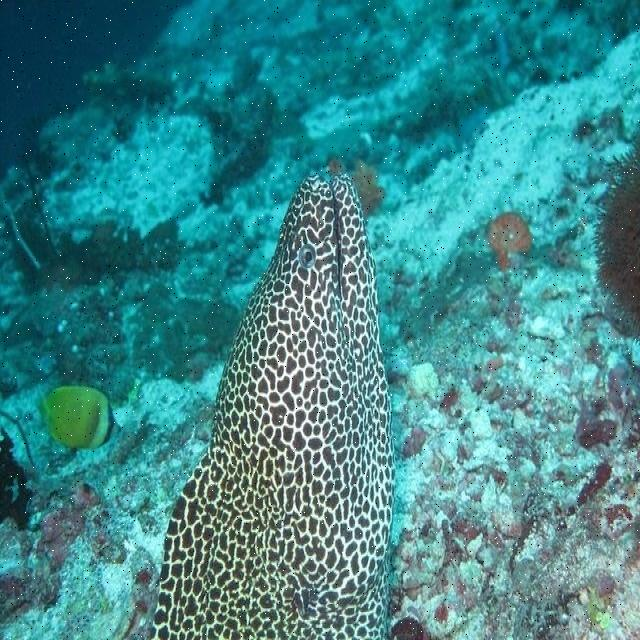fish: (149, 172, 397, 639), (32, 382, 123, 448)
